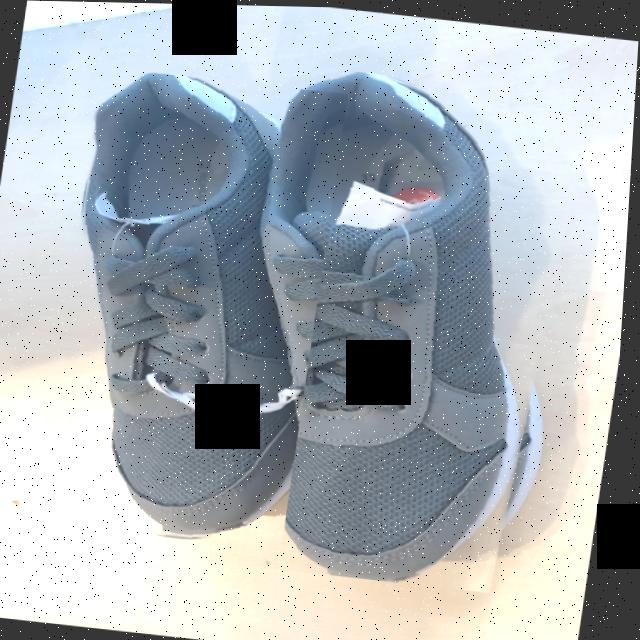shoe: (253, 72, 532, 581), (85, 72, 303, 537)
